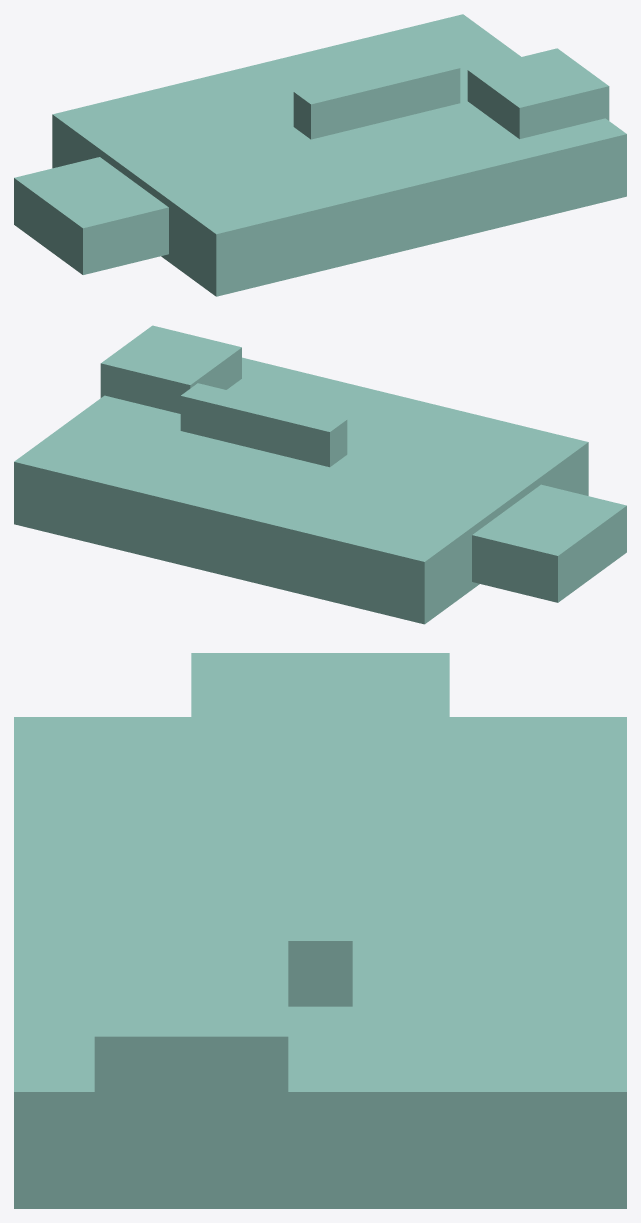
The model's file is fish_opal_flounder.glb.
3 views of the same model, one above another, from view 1: azimuth 30°, elevation 25°; view 2: azimuth 150°, elevation 25°; view 3: azimuth 270°, elevation 25° (orthographic). The views are drawn at different scales.
Visible parts, largest first — view 1: species.opal_flounder; view 2: species.opal_flounder; view 3: species.opal_flounder.
Boxes of the visible parts, x1,y1,x2,y2 form: species.opal_flounder: (14,14,626,296); species.opal_flounder: (14,325,626,624); species.opal_flounder: (14,653,626,1208).
Bounding box in the file's own units: 0.3 × 0.056 × 0.1701.
